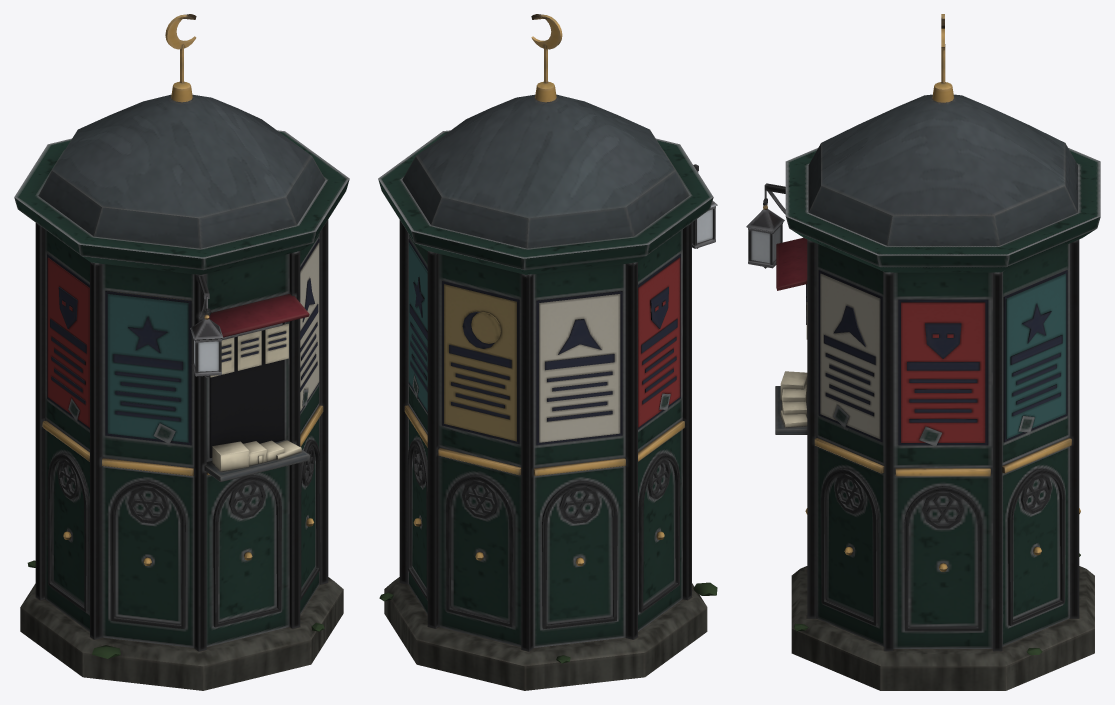
Rendered from NewsKiosk.fbx.
3 renders of one model, left to right at view 1: azimuth 30°, elevation 25°; view 2: azimuth 150°, elevation 25°; view 3: azimuth 270°, elevation 25°, orthographic.
Parts seen in each view (by area): view 1: NewsKiosk_Main, NewsKiosk_Glass; view 2: NewsKiosk_Main; view 3: NewsKiosk_Main, NewsKiosk_Glass.
Boxes of the visible parts, x1,y1,x2,y2 form: NewsKiosk_Main: (14, 14, 349, 690); NewsKiosk_Glass: (194, 340, 218, 371); NewsKiosk_Main: (378, 14, 717, 690); NewsKiosk_Main: (746, 14, 1100, 690); NewsKiosk_Glass: (751, 226, 780, 263).
Size of the model in its own units: 346 by 740 by 389.
